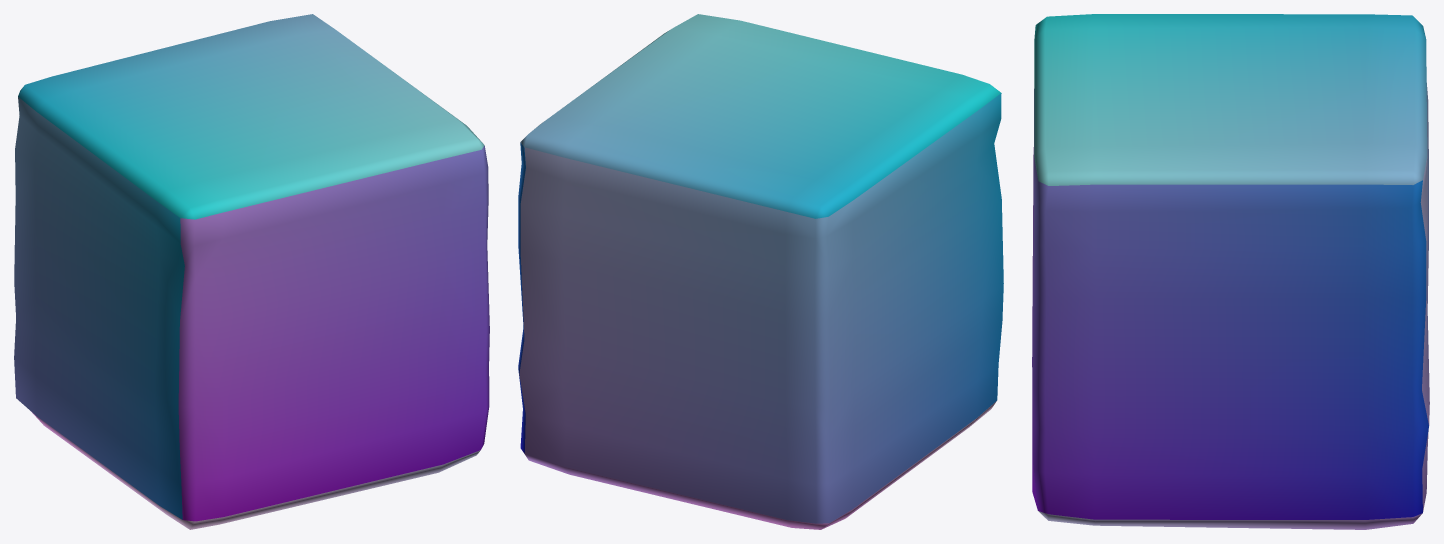
3 renders of one model, left to right at view 1: azimuth 30°, elevation 25°; view 2: azimuth 150°, elevation 25°; view 3: azimuth 270°, elevation 25°, orthographic. The views are drawn at different scales.
Visible parts, largest first — view 1: SM_BlightRoot_01_LOD0; view 2: SM_BlightRoot_01_LOD0; view 3: SM_BlightRoot_01_LOD0.
Boxes of the visible parts, left/top/right/bottom form: SM_BlightRoot_01_LOD0: left=14, top=14, right=489, bottom=529; SM_BlightRoot_01_LOD0: left=518, top=14, right=1003, bottom=529; SM_BlightRoot_01_LOD0: left=1032, top=14, right=1429, bottom=529.
Bounding box in the file's own units: 0.2559 × 0.2558 × 0.2533.
